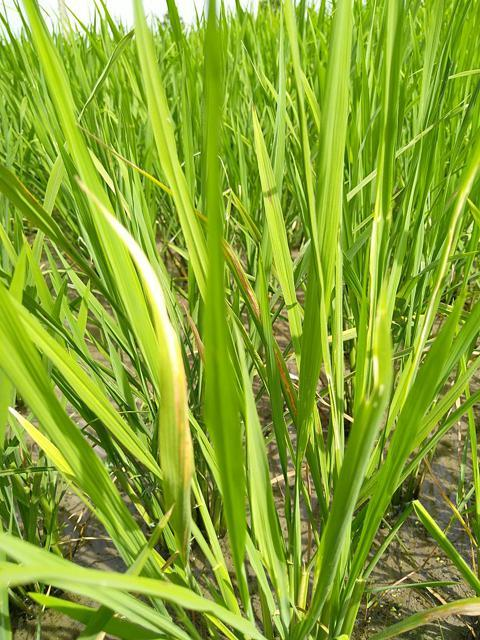Leaf Blight: (91, 197, 195, 563), (99, 141, 173, 197), (222, 239, 263, 333), (275, 344, 297, 424), (193, 210, 208, 223)
